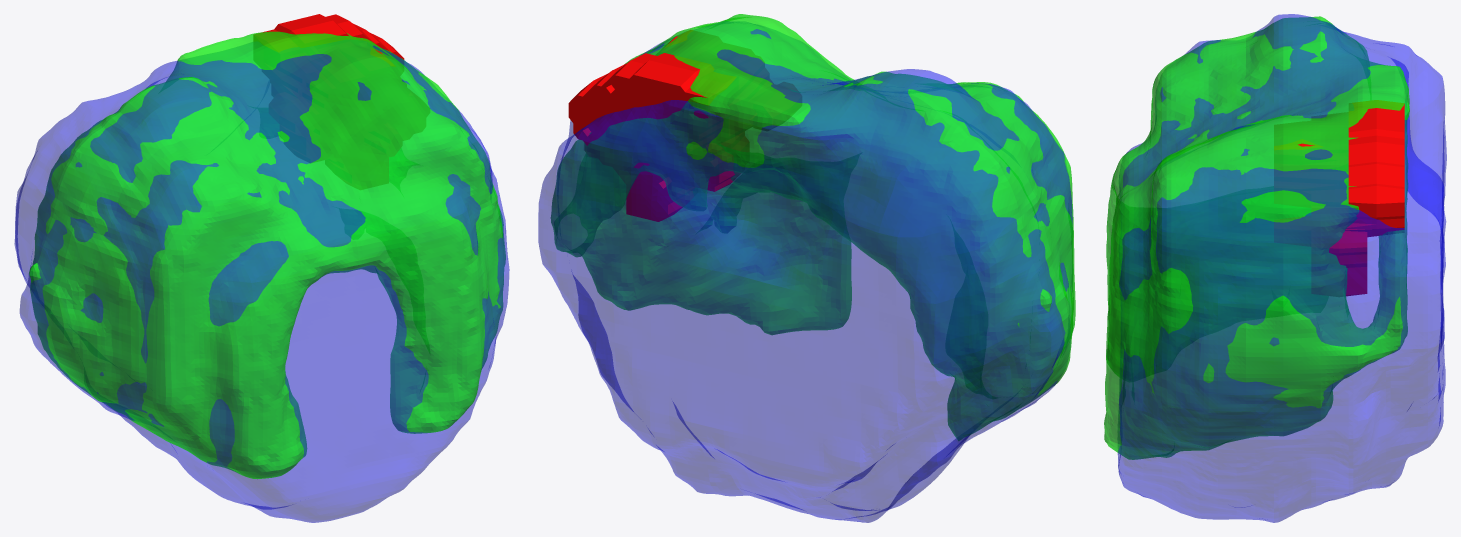
The model's file is NCKU_Training_10.glb.
3 renders of one model, left to right at view 1: azimuth 30°, elevation 25°; view 2: azimuth 150°, elevation 25°; view 3: azimuth 270°, elevation 25°, orthographic. The views are drawn at different scales.
Parts seen in each view (by area): view 1: model_pz.obj, model_gland.obj, mesh_lesion.obj; view 2: model_gland.obj, model_pz.obj, mesh_lesion.obj; view 3: model_gland.obj, model_pz.obj, mesh_lesion.obj.
Boxes of the visible parts, bbox=[...] form: model_pz.obj: bbox=[29, 31, 505, 478]; model_gland.obj: bbox=[14, 45, 509, 522]; mesh_lesion.obj: bbox=[253, 14, 404, 66]; model_gland.obj: bbox=[538, 21, 1072, 522]; model_pz.obj: bbox=[551, 14, 1075, 440]; mesh_lesion.obj: bbox=[568, 30, 736, 221]; model_gland.obj: bbox=[1117, 14, 1446, 522]; model_pz.obj: bbox=[1104, 16, 1409, 459]; mesh_lesion.obj: bbox=[1274, 100, 1404, 296].
Bounding box in the file's own units: 0.042 × 0.0387 × 0.0276.
